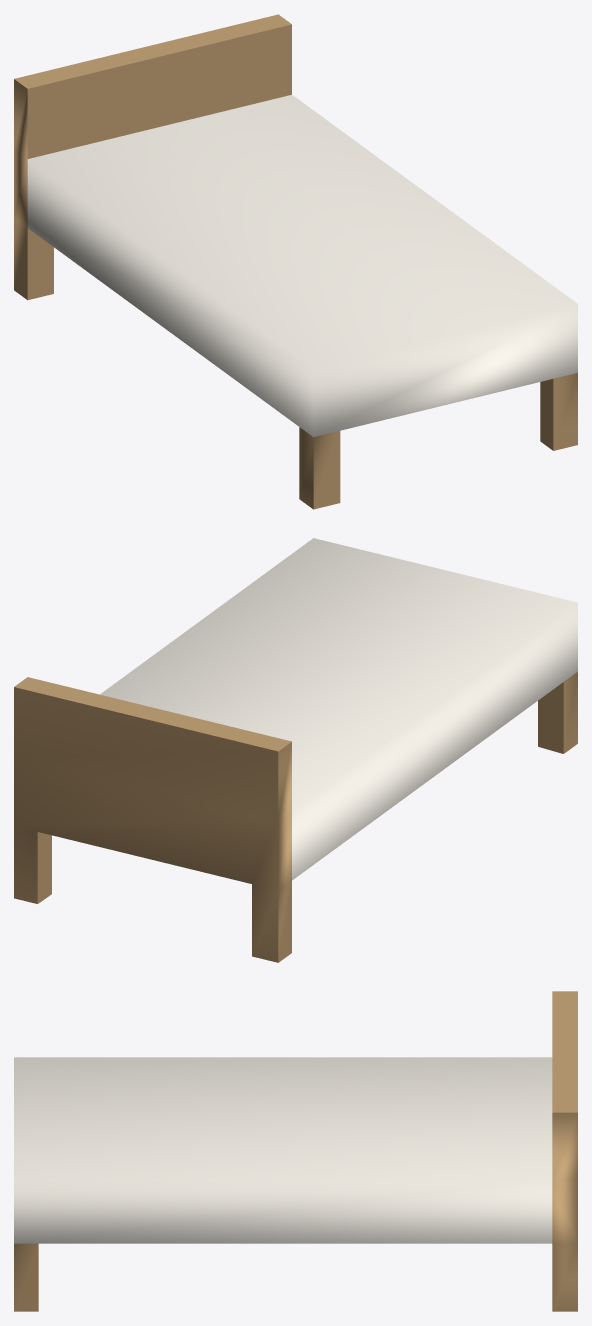
File: basicBedv2.fbx
3 views of the same model, one above another, from view 1: azimuth 30°, elevation 25°; view 2: azimuth 150°, elevation 25°; view 3: azimuth 270°, elevation 25° (orthographic). The views are drawn at different scales.
Visible parts, largest first — view 1: pCube1; view 2: pCube1; view 3: pCube1.
Part boxes in pixels (x1,y1,x2,y2): pCube1: (14,14,577,509); pCube1: (14,538,577,962); pCube1: (14,991,577,1311).
Bounding box in the file's own units: 4.02 × 3.07 × 7.89.
